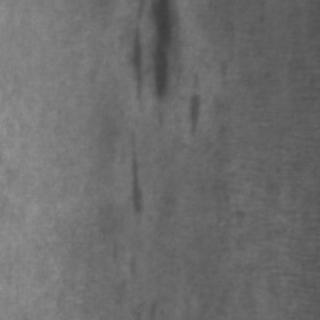inclusion: (120, 0, 180, 124), (120, 133, 148, 219), (183, 70, 205, 136)
